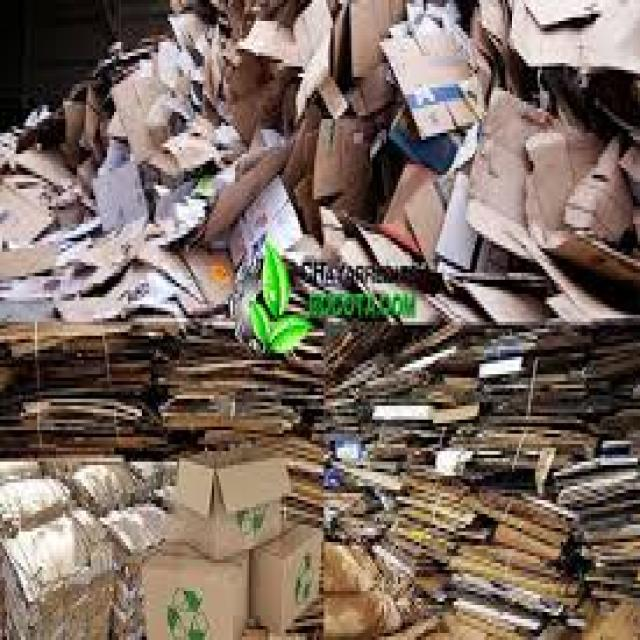Vidrio: (394, 38, 484, 124), (501, 93, 547, 258), (186, 468, 284, 536), (122, 86, 196, 146)
